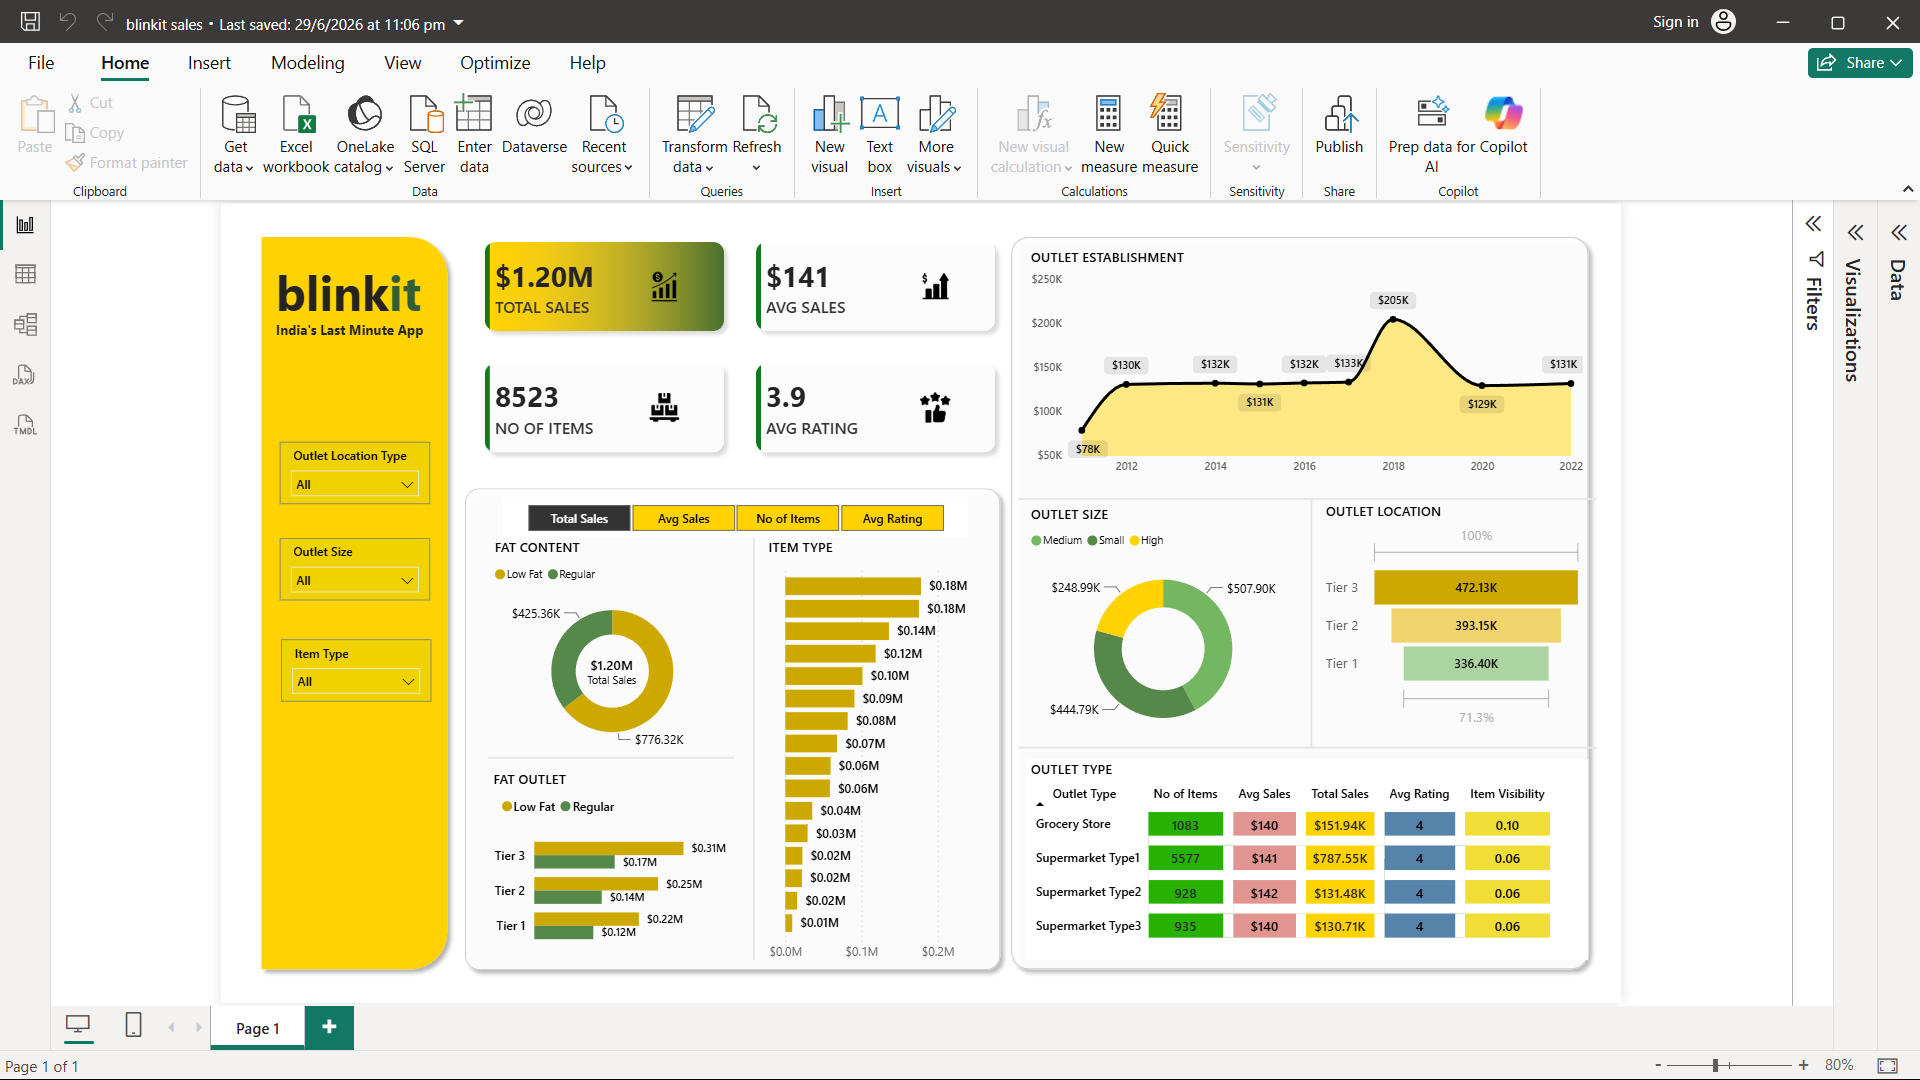

This screenshot's page, from the dashboard's own definition file:
{"tool":"powerbi","page":{"name":"Page 1","canvas":[1400,800],"ordinal":0},"visuals":[{"type":"shape","box":[31.5,25.5,204.1,750.4],"z":0},{"type":"textbox","box":[49.5,51,168.1,76.5],"z":1000},{"type":"textbox","box":[49.5,112.6,171.1,31.5],"z":2000},{"type":"cardVisual","fields":{"Data":["BlinkIT Grocery Data.Total Sales","BlinkIT Grocery Data.Avg Sales","BlinkIT Grocery Data.No of Items","BlinkIT Grocery Data.Avg Rating"]},"box":[235.3,10.2,569.8,269.6],"z":3000},{"type":"shape","box":[235.3,276,553.2,499.8],"z":4000},{"type":"donutChart","title":"FAT CONTENT","fields":{"Y":["BlinkIT Grocery Data.Total Sales"],"Category":["BlinkIT Grocery Data.Item Fat Content"]},"box":[268.4,334.5,245.5,221.3],"z":5000},{"type":"slicer","fields":{"Values":["Metrics.Metrics"]},"box":[281.1,295.1,465.5,39.4],"z":6000},{"type":"cardVisual","fields":{"Data":["BlinkIT Grocery Data.Total Sales"]},"box":[324.3,427.3,134.8,81.4],"z":6001},{"type":"clusteredBarChart","title":"FAT OUTLET","fields":{"Y":["BlinkIT Grocery Data.Total Sales"],"Category":["BlinkIT Grocery Data.Outlet Location Type"],"Series":["BlinkIT Grocery Data.Item Fat Content"]},"box":[267.1,566,245.5,190.8],"z":6002},{"type":"shape","box":[267.1,535.4,245.5,39.4],"z":6003},{"type":"shape","box":[512.5,334.5,40.7,422.2],"z":6004},{"type":"barChart","title":"ITEM TYPE","fields":{"Y":["BlinkIT Grocery Data.Total Sales"],"Category":["BlinkIT Grocery Data.Item Type"]},"box":[543.1,334.5,226.4,432.4],"z":6005},{"type":"shape","box":[780.9,25.4,595.2,750.4],"z":6006},{"type":"lineChart","title":"OUTLET ESTABLISHMENT","fields":{"Category":["BlinkIT Grocery Data.Outlet Establishment Year"],"Y":["BlinkIT Grocery Data.Total Sales"]},"box":[805.1,44.5,562.1,235.3],"z":6007},{"type":"shape","box":[797.4,276,578.7,39.4],"z":6008},{"type":"donutChart","title":"OUTLET SIZE","fields":{"Y":["BlinkIT Grocery Data.Total Sales"],"Category":["BlinkIT Grocery Data.Outlet Size"]},"box":[805.1,301.4,274.7,244.2],"z":6009},{"type":"shape","box":[1069.6,295.1,40.7,250.5],"z":6010},{"type":"funnel","title":"OUTLET LOCATION","fields":{"Y":["Sum(BlinkIT Grocery Data.Sales)"],"Category":["BlinkIT Grocery Data.Outlet Location Type"]},"box":[1100.1,298.9,267.1,230.2],"z":6011},{"type":"shape","box":[797.4,525.3,578.7,39.4],"z":6012},{"type":"pivotTable","title":"OUTLET TYPE","fields":{"Values":["BlinkIT Grocery Data.No of Items","BlinkIT Grocery Data.Avg Sales","BlinkIT Grocery Data.Total Sales","BlinkIT Grocery Data.Avg Rating","Avg(BlinkIT Grocery Data.Item Visibility)"],"Rows":["BlinkIT Grocery Data.Outlet Type"]},"box":[805.1,555.8,562.1,200.9],"z":6013},{"type":"slicer","fields":{"Values":["BlinkIT Grocery Data.Outlet Location Type"]},"box":[58.5,239.1,150.1,62.3],"z":6014},{"type":"slicer","fields":{"Values":["BlinkIT Grocery Data.Outlet Size"]},"box":[58.5,334.5,150.1,62.3],"z":6015},{"type":"slicer","fields":{"Values":["BlinkIT Grocery Data.Item Type"]},"box":[59.8,436.2,150.1,62.3],"z":6016}]}

Visuals, with their boxes on the page's 1400x800 design canvas (x1, y1, x2, y2). These are canvas units, not pixel positions in the 1920x1080 screenshot, which may show the page scaled, cropped or inside an application window:
shape: bbox=[32, 26, 236, 776]
textbox: bbox=[50, 51, 218, 128]
textbox: bbox=[50, 113, 221, 144]
cardVisual - BlinkIT Grocery Data.Total Sales x BlinkIT Grocery Data.Avg Sales: bbox=[235, 10, 805, 280]
shape: bbox=[235, 276, 788, 776]
"FAT CONTENT" donutChart: bbox=[268, 334, 514, 556]
slicer - Metrics.Metrics: bbox=[281, 295, 747, 334]
cardVisual - BlinkIT Grocery Data.Total Sales: bbox=[324, 427, 459, 509]
"FAT OUTLET" clusteredBarChart: bbox=[267, 566, 513, 757]
shape: bbox=[267, 535, 513, 575]
shape: bbox=[512, 334, 553, 757]
"ITEM TYPE" barChart: bbox=[543, 334, 770, 767]
shape: bbox=[781, 25, 1376, 776]
"OUTLET ESTABLISHMENT" lineChart: bbox=[805, 44, 1367, 280]
shape: bbox=[797, 276, 1376, 315]
"OUTLET SIZE" donutChart: bbox=[805, 301, 1080, 546]
shape: bbox=[1070, 295, 1110, 546]
"OUTLET LOCATION" funnel: bbox=[1100, 299, 1367, 529]
shape: bbox=[797, 525, 1376, 565]
"OUTLET TYPE" pivotTable: bbox=[805, 556, 1367, 757]
slicer - BlinkIT Grocery Data.Outlet Location Type: bbox=[58, 239, 209, 301]
slicer - BlinkIT Grocery Data.Outlet Size: bbox=[58, 334, 209, 397]
slicer - BlinkIT Grocery Data.Item Type: bbox=[60, 436, 210, 498]
